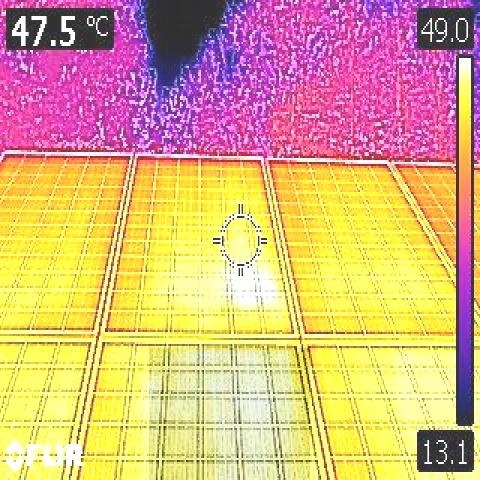fault: (149, 348, 310, 480), (221, 279, 282, 314)
